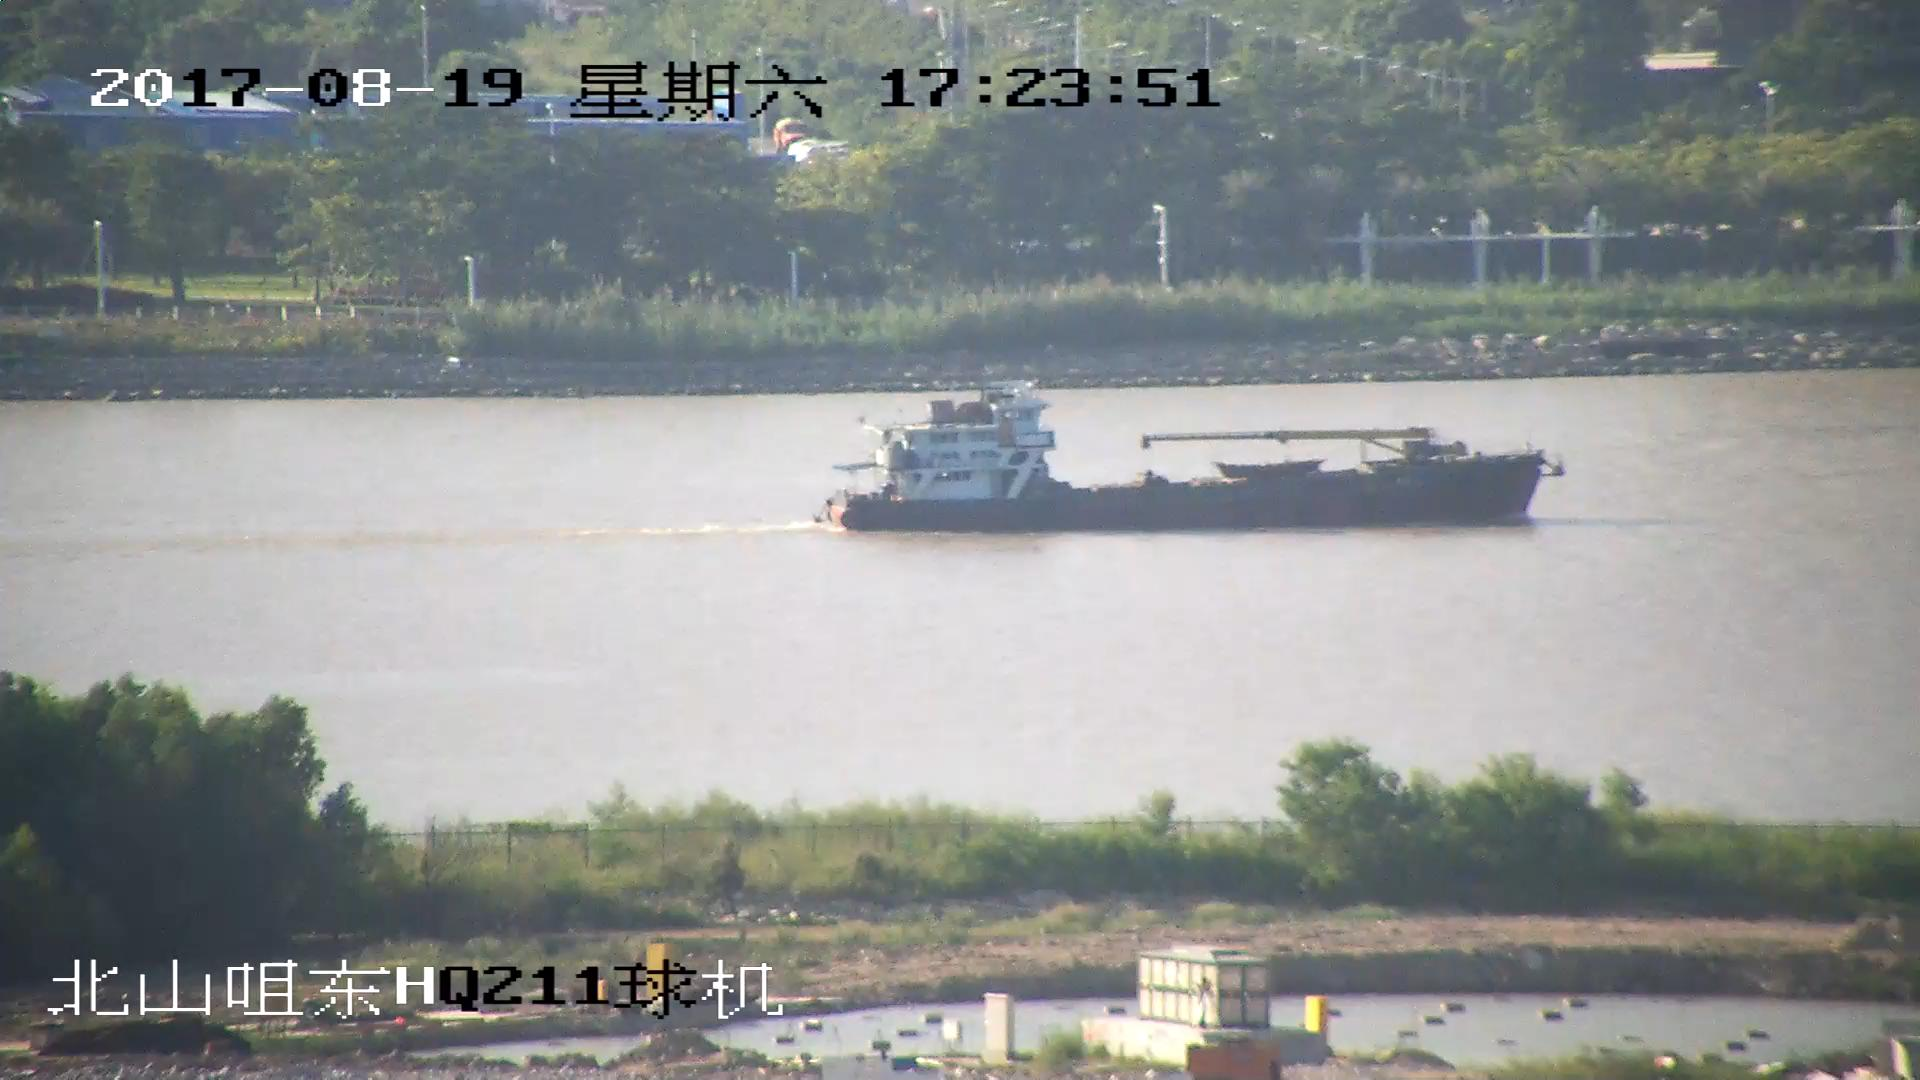bulk cargo carrier: (813, 392, 1564, 536)
